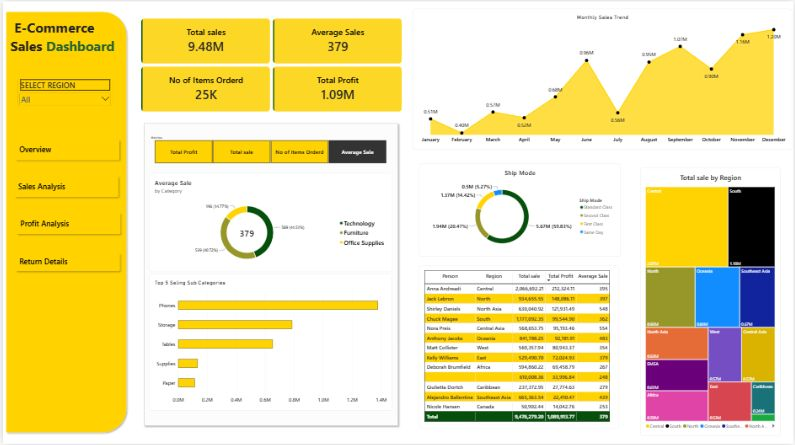

Layout of this report page (visuals, bound fields, positions):
{"tool":"powerbi","page":{"name":"Overview","canvas":[2500,1400],"ordinal":0},"visuals":[{"type":"shape","box":[0,23.3,400,1350],"z":0},{"type":"textbox","box":[24.6,51.9,349.9,134],"z":1000},{"type":"shape","box":[437.8,375.3,822.4,975.2],"z":3000},{"type":"donutChart","fields":{"Category":["Orders.Category"],"Y":["Orders.Average Sale"]},"box":[463.3,542.1,769.1,312.7],"z":4000},{"type":"slicer","fields":{"Values":["Metrics.Metrics"]},"box":[461,423.9,771.4,90.3],"z":5000},{"type":"lineChart","title":"Monthly Sales Trend","fields":{"Category":["Orders.Order Date.Variation.Date Hierarchy.Month"],"Y":["Orders.Total sale"]},"box":[1297.3,24.3,1200,445.9],"z":6000},{"type":"clusteredBarChart","title":"Top 5 Seling Sub Categories","fields":{"Category":["Orders.Sub-Category"],"Y":["Orders.Total sale"]},"box":[462,863.9,768.2,431.9],"z":7000},{"type":"treemap","title":"Total sale by Region","fields":{"Group":["Orders.Region"],"Values":["Orders.Total sale"]},"box":[2016.2,527,443.2,848.6],"z":8000},{"type":"tableEx","fields":{"Values":["People.Person","People.Region","Orders.Total sale","Orders.Total Profit","Orders.Average Sale"]},"box":[1316.2,837.8,632.4,513.5],"z":9000},{"type":"donutChart","title":"Ship Mode","fields":{"Category":["Orders.Ship Mode"],"Y":["Orders.Total sale"]},"box":[1316.2,513.5,637.8,294.6],"z":10000},{"type":"slicer","fields":{"Values":["Orders.Region"]},"box":[46.7,246.7,300,81.1],"z":11000},{"type":"actionButton","box":[30,786.7,348.6,75.7],"z":13000},{"type":"actionButton","box":[26.7,543.3,347.5,85],"z":13002},{"type":"actionButton","box":[33.3,660,347.5,85],"z":13003},{"type":"cardVisual","fields":{"Data":["Orders.Total sale","Orders.Average Sale","Orders.No of Items Orderd","Orders.Total Profit"]},"box":[436.7,53.3,826.7,296.7],"z":13004},{"type":"actionButton","box":[30,426.7,347.5,85],"z":13005}]}

Visuals, with their boxes in screenshot pixels (x1, y1, x2, y2), scaled from the page's 2500x1400 canvas onto the 795x445 screenshot:
shape: [0,7,127,437]
textbox: [8,16,119,59]
shape: [139,119,401,429]
donutChart - Orders.Category x Orders.Average Sale: [147,172,392,272]
slicer - Metrics.Metrics: [147,135,392,163]
"Monthly Sales Trend" lineChart: [413,8,794,149]
"Top 5 Seling Sub Categories" clusteredBarChart: [147,275,391,412]
"Total sale by Region" treemap: [641,168,782,437]
tableEx - People.Person x People.Region: [419,266,620,430]
"Ship Mode" donutChart: [419,163,621,257]
slicer - Orders.Region: [15,78,110,104]
actionButton: [10,250,120,274]
actionButton: [8,173,119,200]
actionButton: [11,210,121,237]
cardVisual - Orders.Total sale x Orders.Average Sale: [139,17,402,111]
actionButton: [10,136,120,163]
